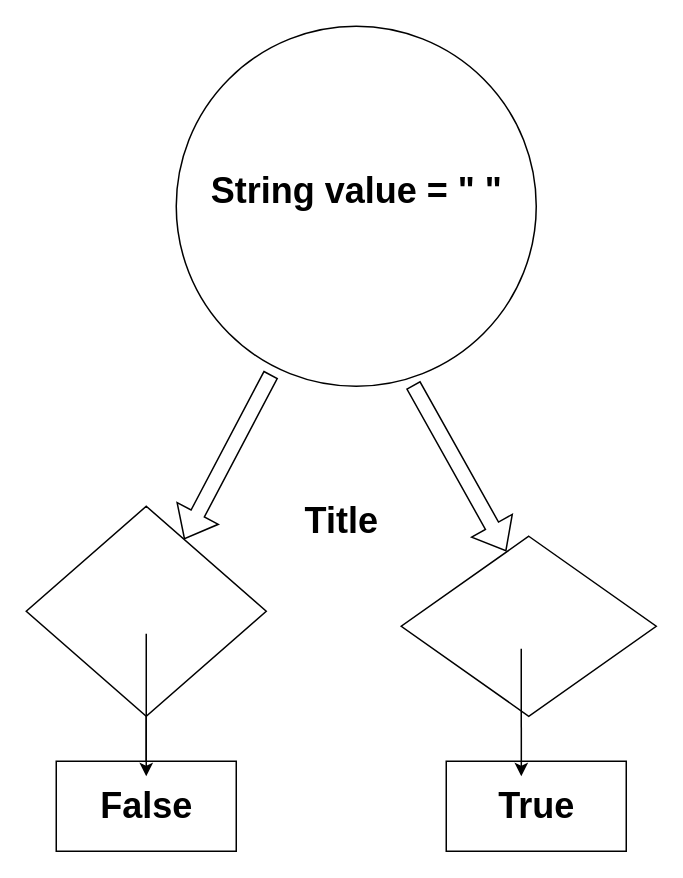
Image size: 683x878. Some labels were removed from this diagram. The centre of each missing label's shape, as x and y in pixels:
"isBlank()" goes at (x=528, y=625).
"isEmpty()" goes at (x=145, y=610).
